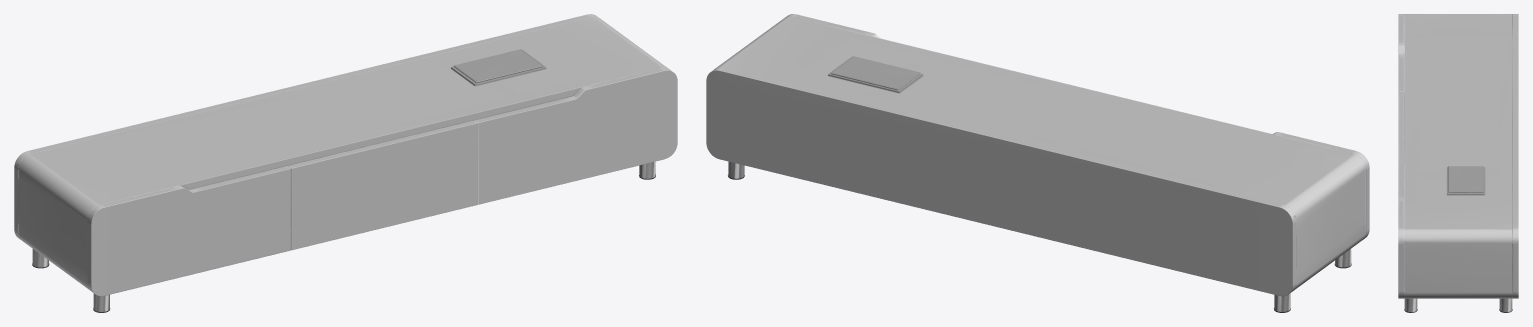
Rendered from raw_model.obj.
3 views of the same model, side by side, from view 1: azimuth 30°, elevation 25°; view 2: azimuth 150°, elevation 25°; view 3: azimuth 270°, elevation 25° (orthographic). The views are drawn at different scales.
Parts seen in each view (by area): view 1: solid_001, solid_004, solid_003; view 2: solid_001, solid_004, solid_003; view 3: solid_001, solid_004, solid_003.
Boxes of the visible parts, x1,y1,x2,y2 form: solid_001: [14, 14, 677, 296]; solid_004: [451, 49, 546, 85]; solid_003: [32, 161, 655, 311]; solid_001: [706, 14, 1369, 296]; solid_004: [828, 56, 923, 92]; solid_003: [728, 161, 1351, 311]; solid_001: [1398, 14, 1518, 298]; solid_004: [1447, 166, 1484, 195]; solid_003: [1404, 298, 1512, 311].
Size of the model in its own units: 1.8 by 0.3307 by 0.41.
1 material, 1 textured.
